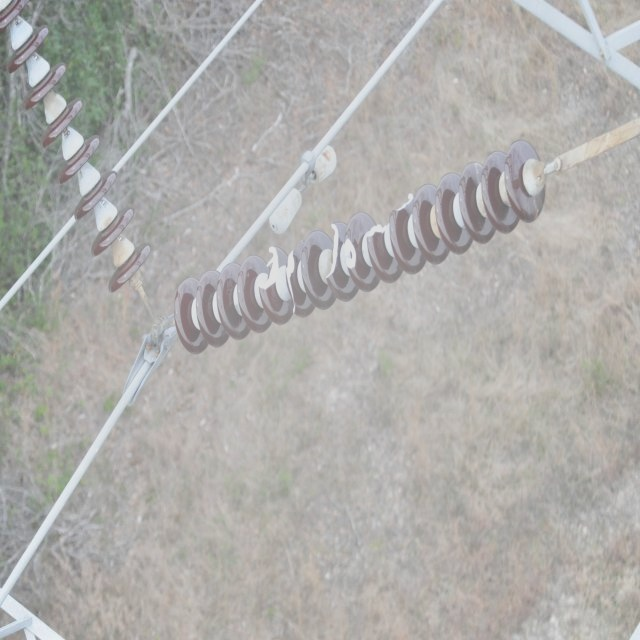broken: (286, 237, 304, 315), (259, 243, 281, 294), (326, 218, 340, 282), (390, 191, 414, 216), (365, 220, 391, 242), (344, 236, 357, 269)
insulator: (173, 141, 544, 355), (1, 0, 152, 292)
